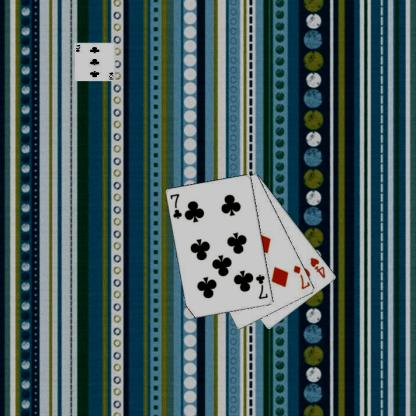4H: (308, 255, 327, 279)
7C: (168, 191, 184, 220), (254, 272, 270, 300)
7D: (291, 262, 310, 290)
